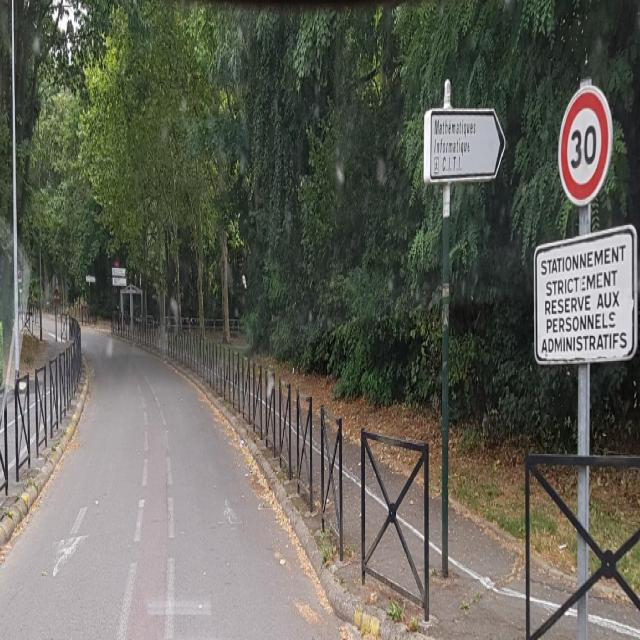speed_30: (558, 83, 614, 205)
